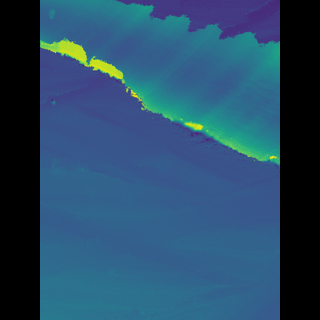Loch: (70, 0, 247, 176)
